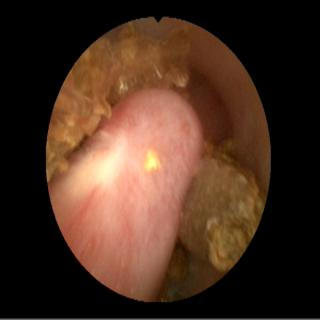stone: (50, 25, 190, 177), (181, 140, 262, 270), (169, 251, 187, 281), (144, 149, 158, 171)
